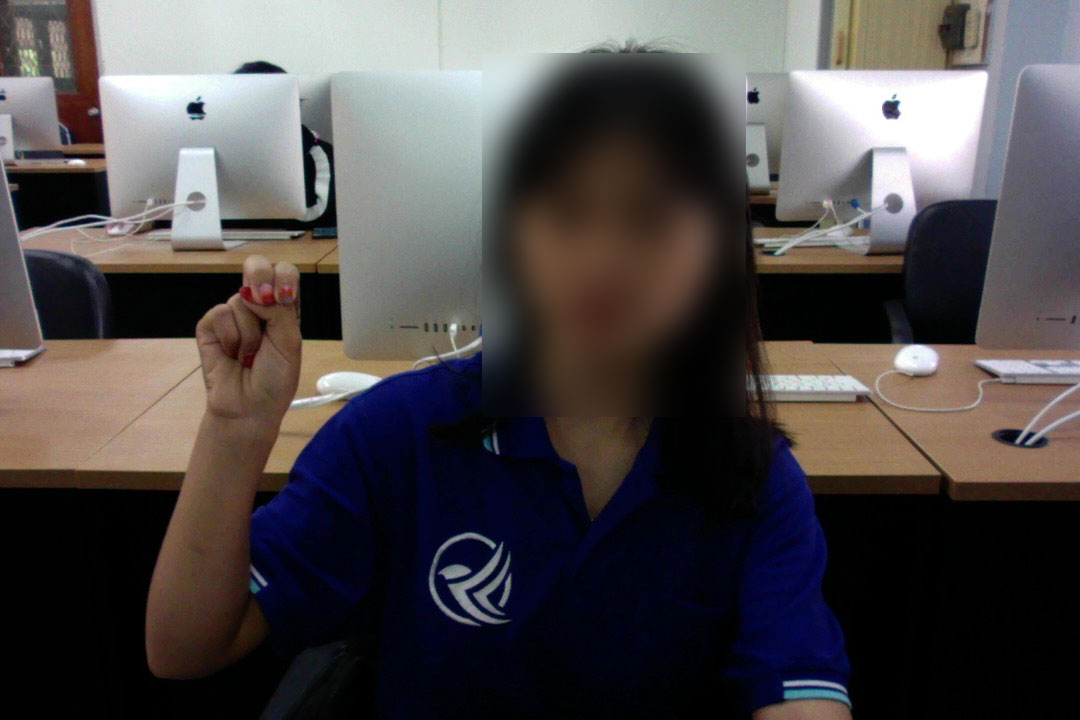nor: (187, 247, 305, 448)
